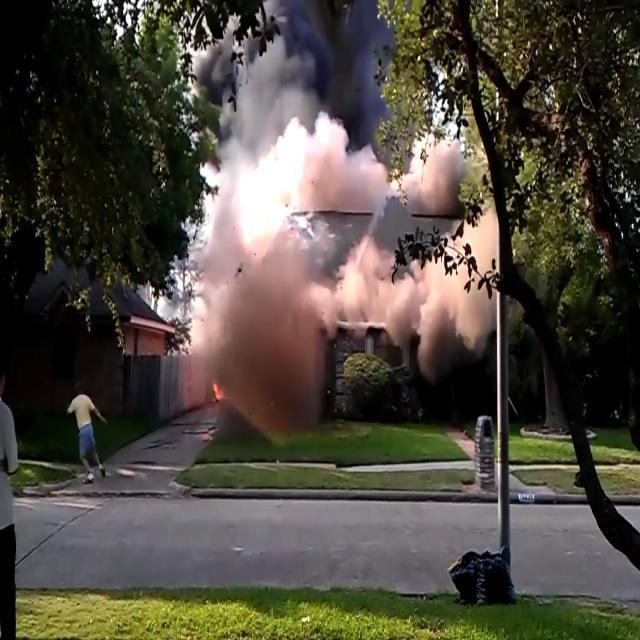Smoke: (179, 101, 382, 446), (389, 110, 512, 384)
